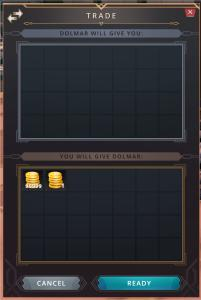gold: (22, 168, 43, 190), (44, 169, 65, 191)
